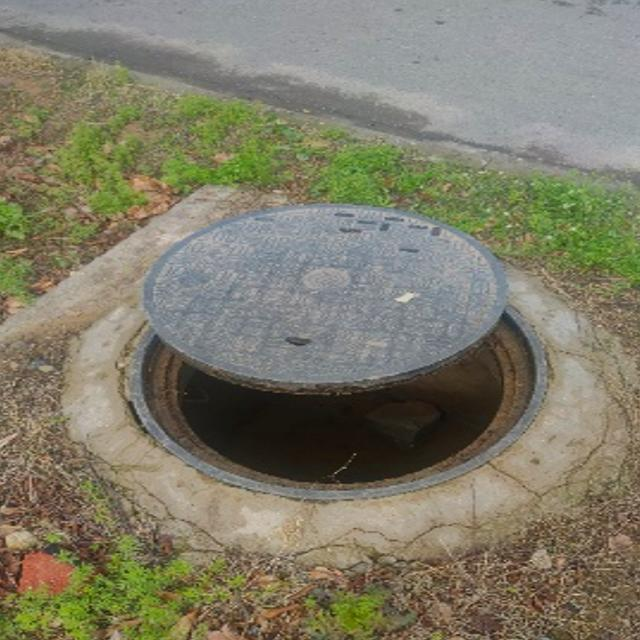uncovered: (121, 198, 569, 507)
